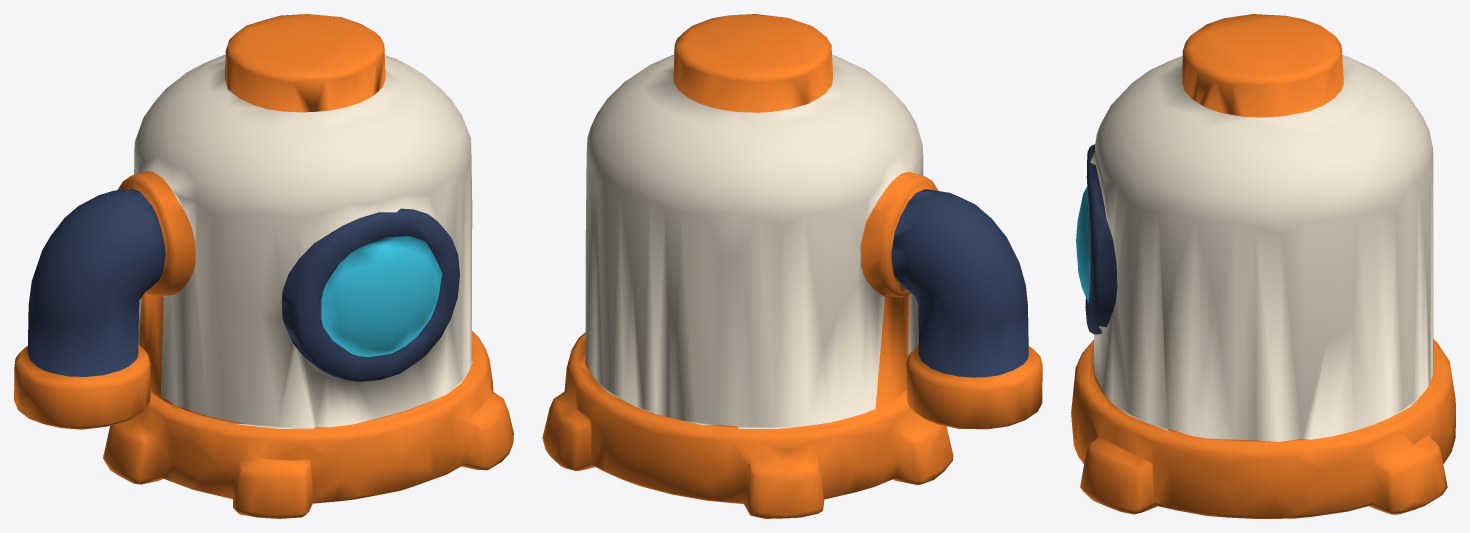
File: cargo-tank.glb
3 views of the same model, side by side, from view 1: azimuth 30°, elevation 25°; view 2: azimuth 150°, elevation 25°; view 3: azimuth 270°, elevation 25° (orthographic). The views are drawn at different scales.
Visible parts, largest first — view 1: rounded-utility-tank_LOD0; view 2: rounded-utility-tank_LOD0; view 3: rounded-utility-tank_LOD0.
Part boxes in pixels (x1,y1,x2,y2): rounded-utility-tank_LOD0: (14,14,513,518); rounded-utility-tank_LOD0: (542,14,1042,518); rounded-utility-tank_LOD0: (1071,14,1455,518).
Bounding box in the file's own units: 1.43 × 1.2 × 1.04.
1 material, 1 textured.
